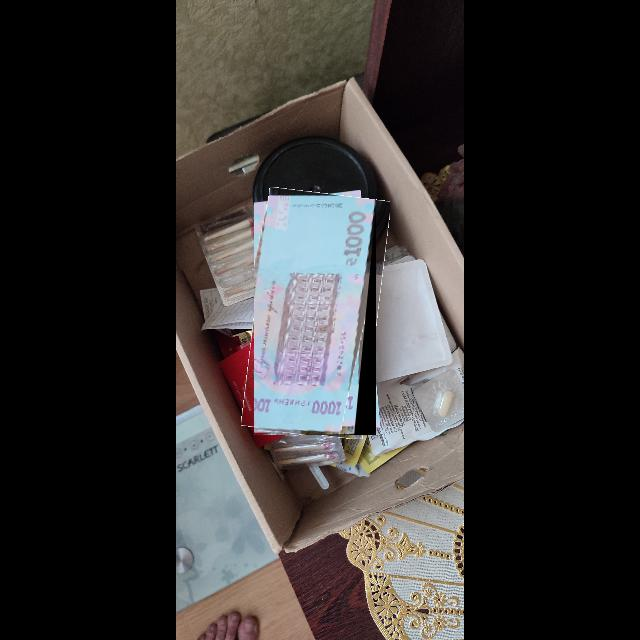1000uah: (254, 199, 376, 435)
